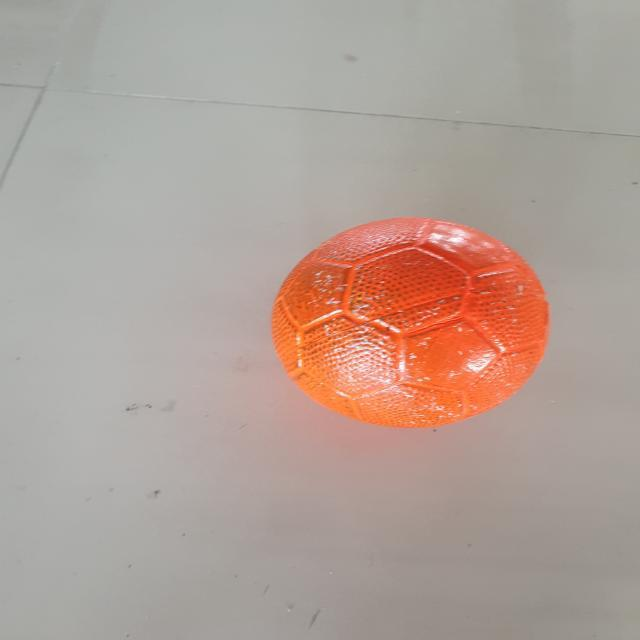bola: (257, 208, 564, 441)
